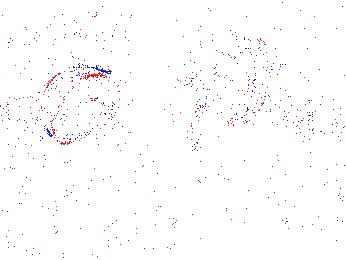moon jellyfish: (194, 31, 270, 126), (264, 56, 346, 137), (39, 67, 120, 146), (108, 68, 165, 145), (1, 96, 45, 135)
